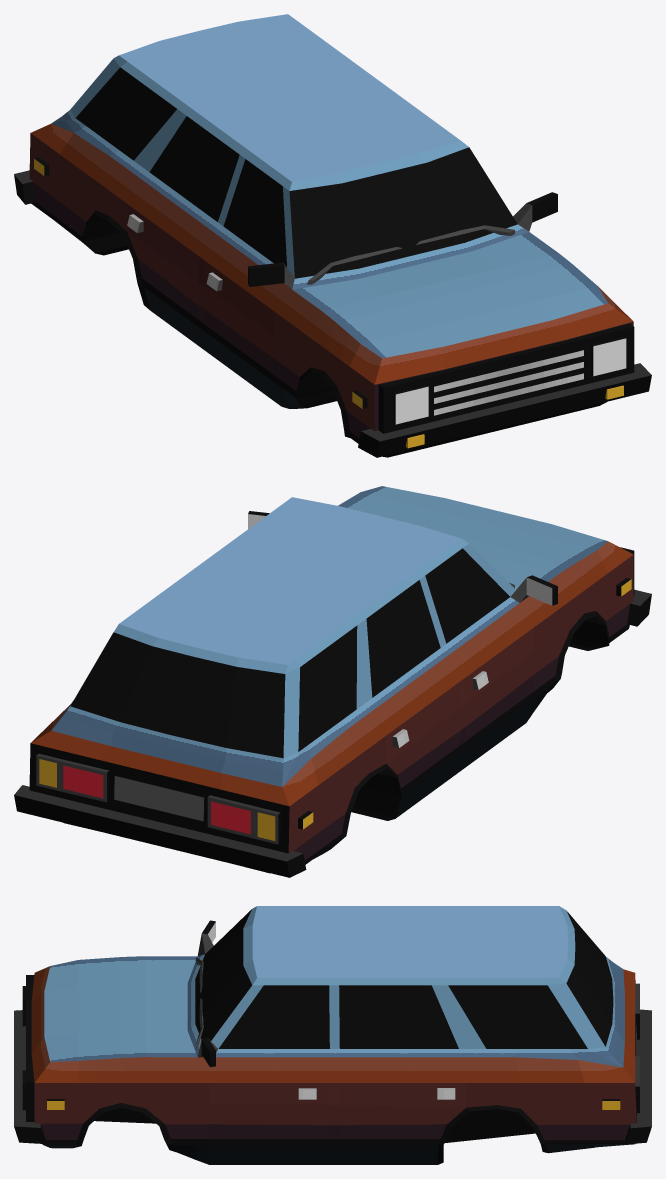
File: StationWagon.006.fbx
3 renders of one model, top to bottom at view 1: azimuth 30°, elevation 25°; view 2: azimuth 150°, elevation 25°; view 3: azimuth 270°, elevation 25°, orthographic. The views are drawn at different scales.
Parts seen in each view (by area): view 1: StationWagon.006; view 2: StationWagon.006; view 3: StationWagon.006.
Boxes of the visible parts, bbox=[...] form: StationWagon.006: bbox=[14, 14, 651, 457]; StationWagon.006: bbox=[14, 486, 651, 877]; StationWagon.006: bbox=[14, 906, 651, 1164].
Size of the model in its own units: 1.84 by 1.14 by 3.78.
